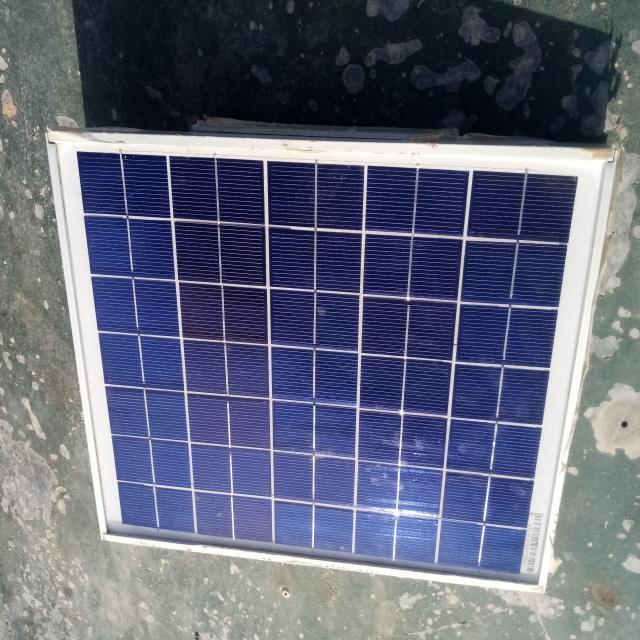no faulty: (48, 135, 616, 590)
